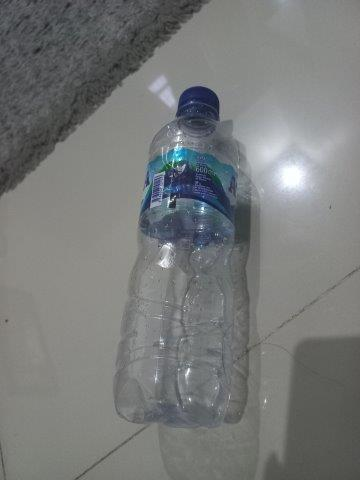botolplastik: (113, 86, 244, 427)
